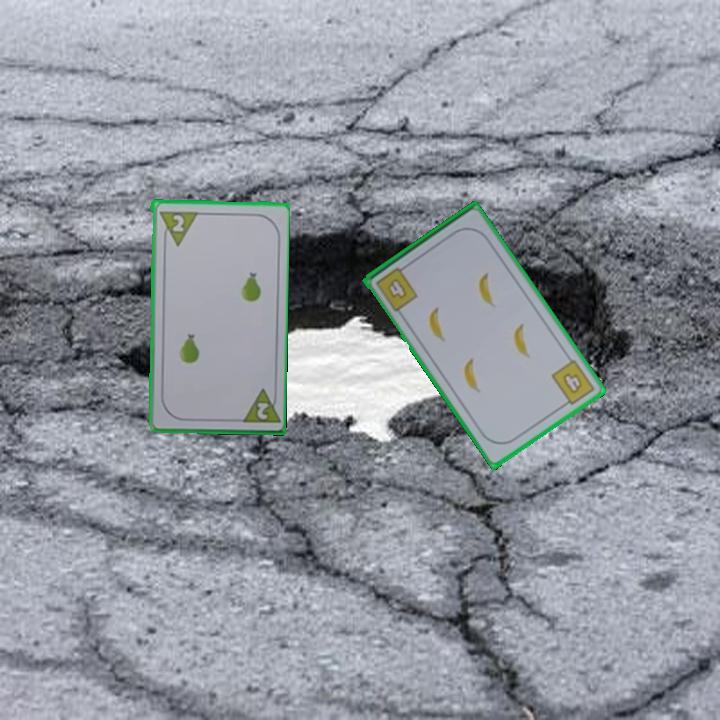2p: (236, 385, 281, 426), (155, 207, 198, 248)
4b: (548, 356, 598, 410), (387, 277, 409, 302)
